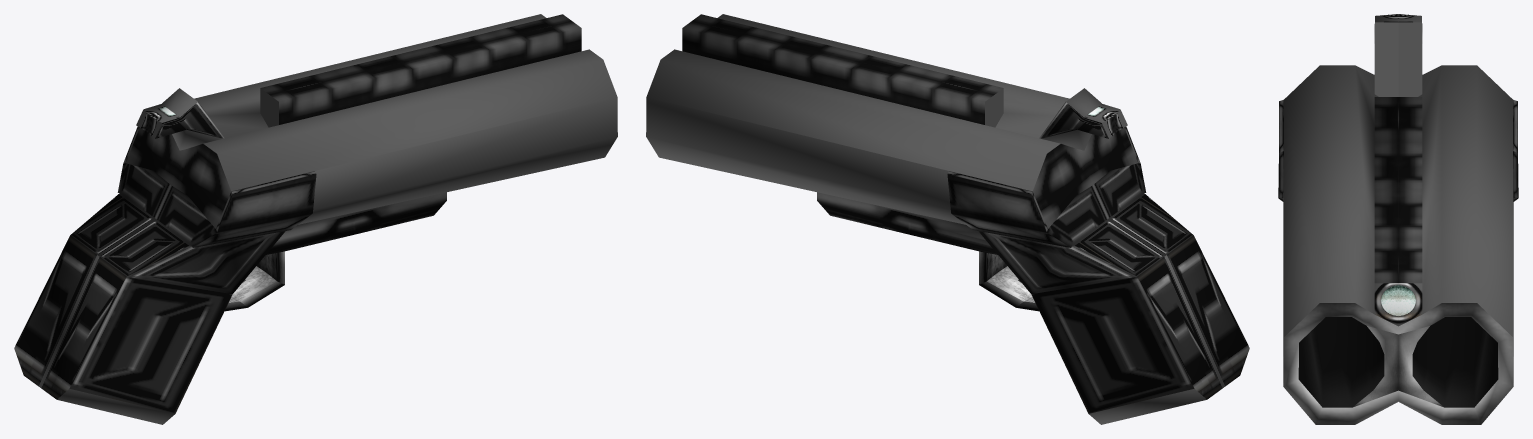
File: Shotgun 1.fbx
3 renders of one model, left to right at view 1: azimuth 30°, elevation 25°; view 2: azimuth 150°, elevation 25°; view 3: azimuth 270°, elevation 25°, orthographic. The views are drawn at different scales.
Visible parts, largest first — view 1: Cube, Cube.001; view 2: Cube, Cube.001; view 3: Cube, Cube.001.
Part boxes in pixels (x1,y1,x2,y2): Cube: (126, 14, 617, 311); Cube.001: (14, 126, 446, 424); Cube: (646, 14, 1137, 311); Cube.001: (817, 126, 1249, 424); Cube: (1283, 14, 1513, 424); Cube.001: (1278, 99, 1518, 201).
Bounding box in the file's own units: 453 × 250 × 140.
2 materials, 1 textured.
